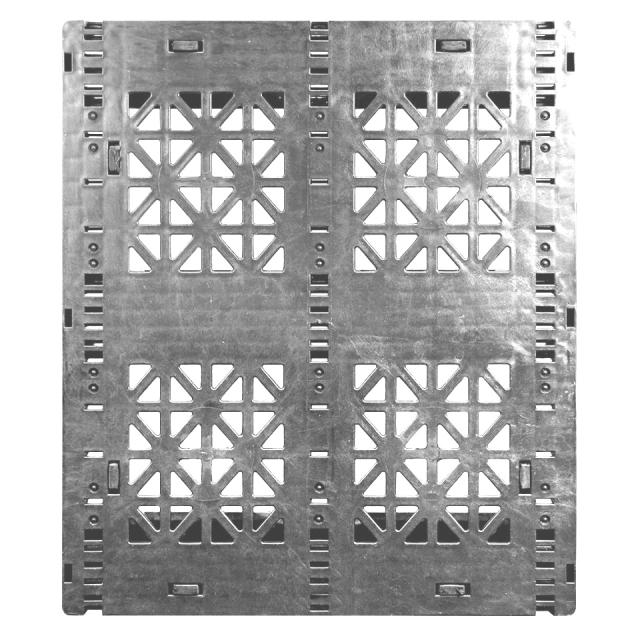non-igps: (57, 10, 587, 620)
